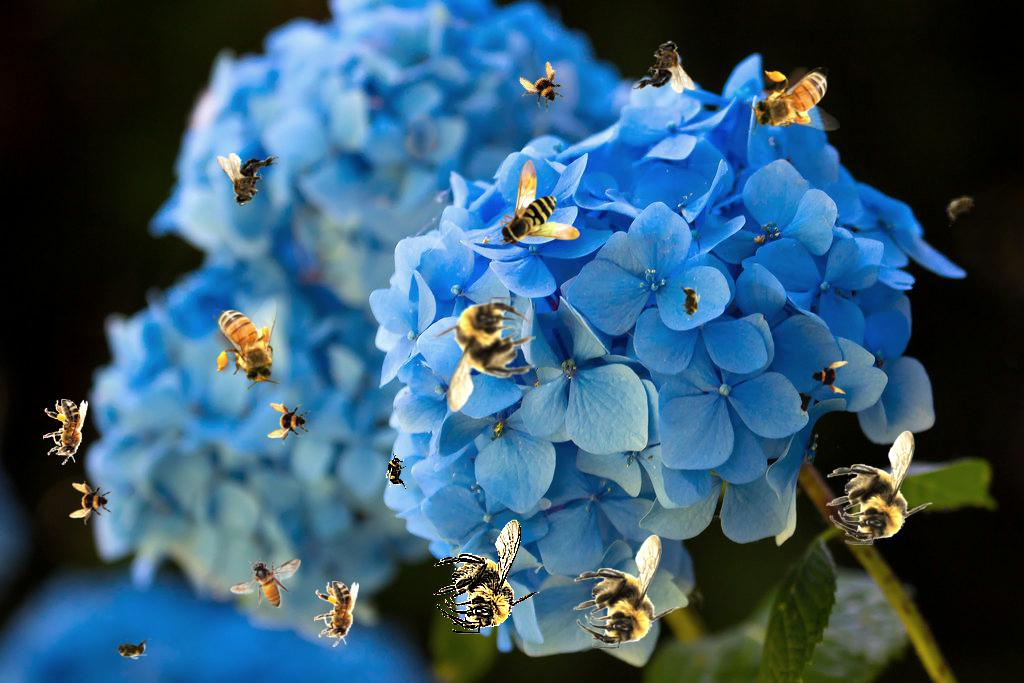Bee: (573, 534, 680, 649), (429, 297, 536, 412), (826, 430, 933, 545), (433, 519, 540, 634), (498, 159, 580, 247), (213, 297, 281, 390), (747, 67, 840, 135), (512, 57, 574, 119), (230, 558, 301, 608), (217, 153, 279, 206), (633, 40, 695, 93), (314, 581, 359, 647), (43, 399, 88, 465), (806, 353, 850, 397), (69, 481, 113, 525), (267, 401, 311, 445), (938, 187, 984, 227), (111, 638, 151, 660), (385, 451, 407, 491), (679, 282, 701, 322)
